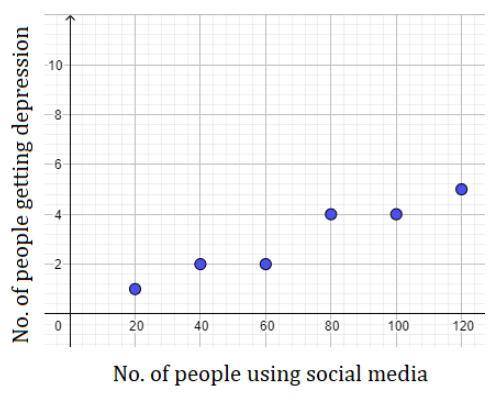axis: (71, 309, 489, 320), (62, 13, 76, 320)
point: (127, 281, 143, 297), (388, 207, 405, 222), (258, 257, 274, 272), (323, 206, 339, 221), (193, 257, 208, 271), (454, 182, 469, 196)
